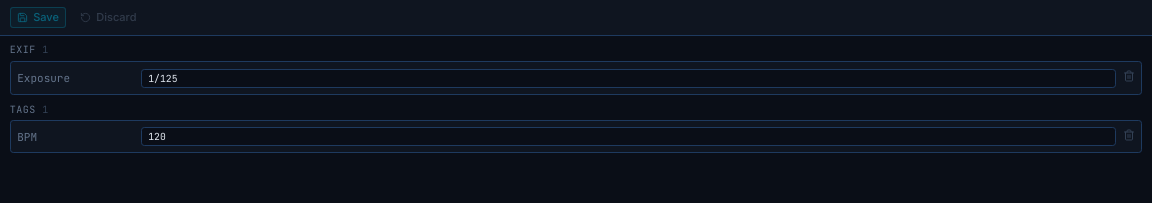
Test case: typed values are sent with their JSON type › invalid values are reported per field and nothing is sent
Step 1. Replace the text in the field named "Exposure" with "fast" → (629, 79), box x1=141 y1=69 x2=1116 y2=88
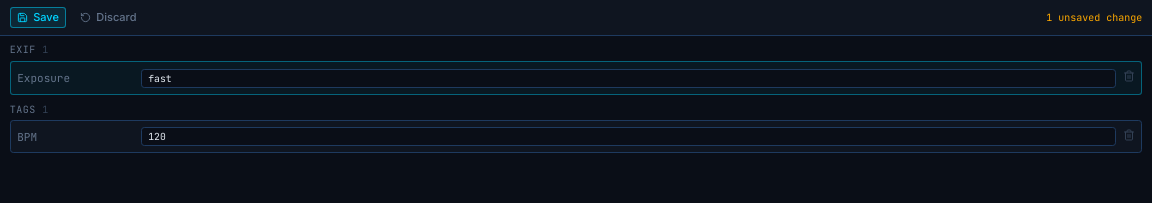
Step 2. Replace the text in the number field named "BPM" with "1.5" → (629, 137), box x1=141 y1=127 x2=1116 y2=146
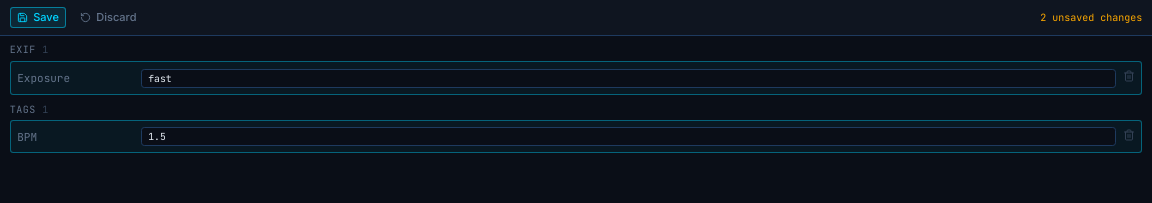
Step 3. Click the button "Save" → (38, 17), box x1=10 y1=6 x2=66 y2=28
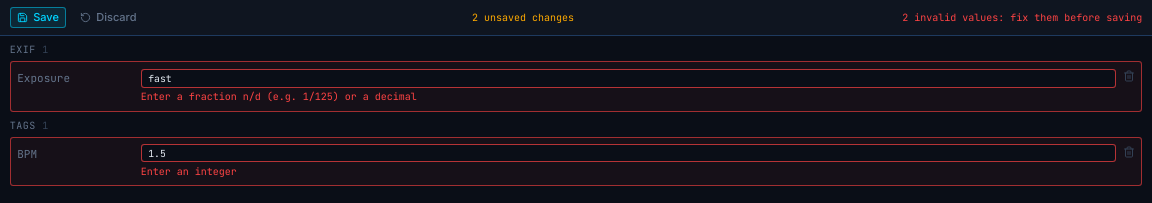
Result: the text "2 invalid values: fix them before saving" is shown at x1=902 y1=10 x2=1142 y2=25
Result: the message "Enter a fraction n/d (e.g. 1/125) or a decimal" is shown at x1=141 y1=90 x2=417 y2=103
Result: the message "Enter an integer" is shown at x1=141 y1=165 x2=237 y2=178
